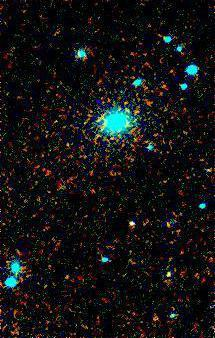star: (153, 262, 183, 292)
